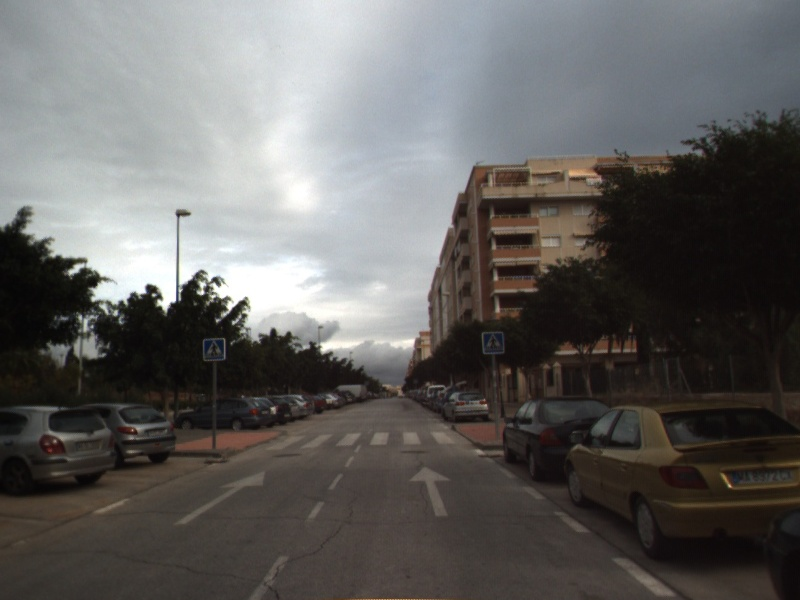STRAIGHT: (172, 470, 266, 527), (407, 464, 453, 518)
